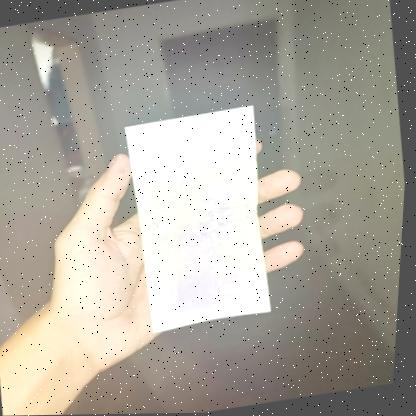two_hundred-back-vef: (114, 104, 286, 337)
